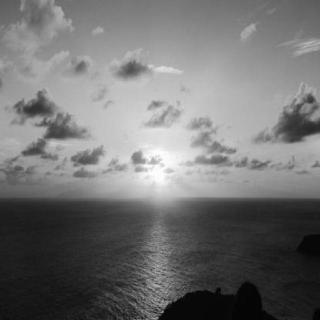other: (130, 144, 190, 202)
